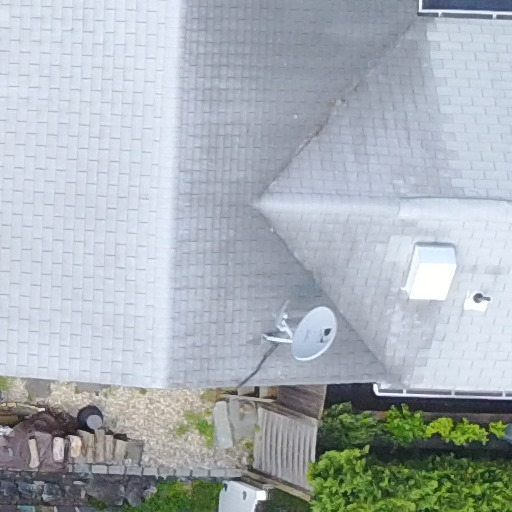container: (75, 399, 108, 438)
